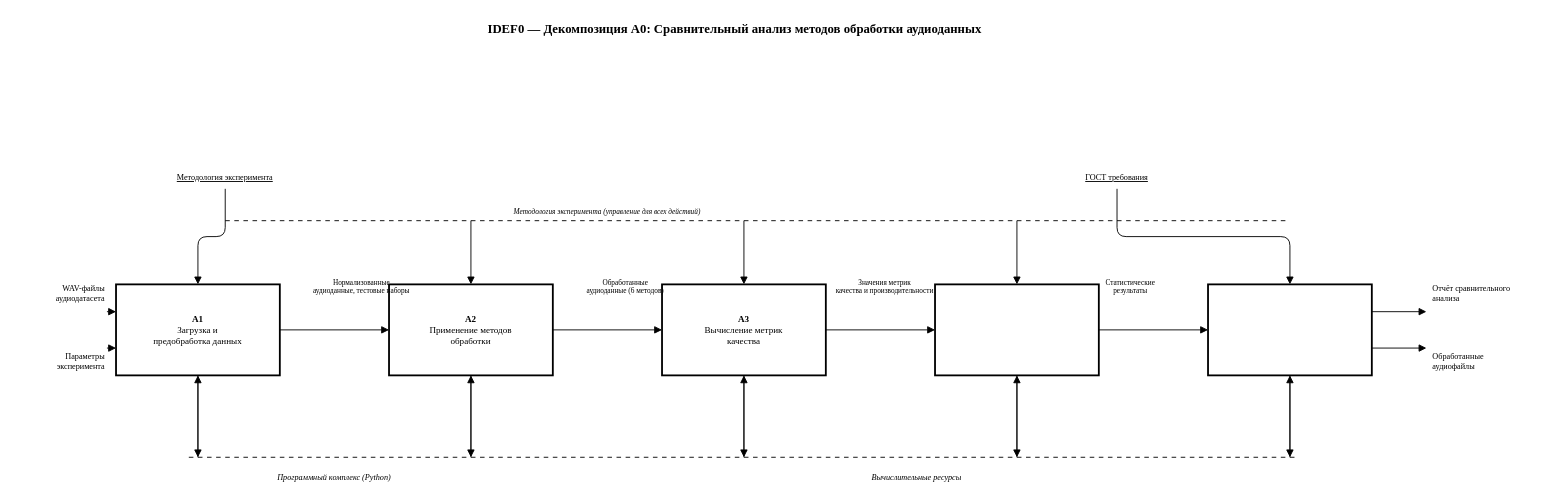
This 1564x504 diagram has some shape labels left out. The centre of each missing label's shape, as x and y in pixels:
"A4 Статистический анализ" goes at point 1016,329.
"A5 Формирование отчёта" goes at point 1289,329.
